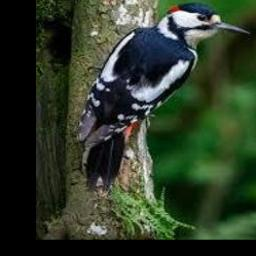Woodpecker: (75, 2, 250, 191)
